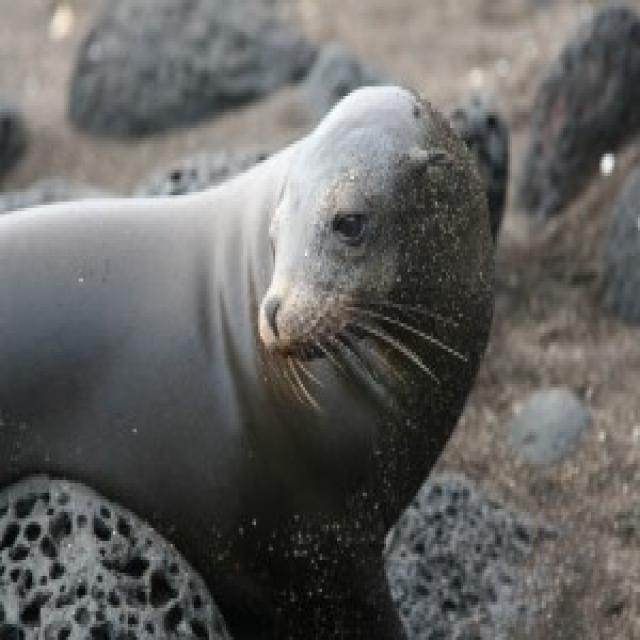Seal: (0, 57, 504, 524)
